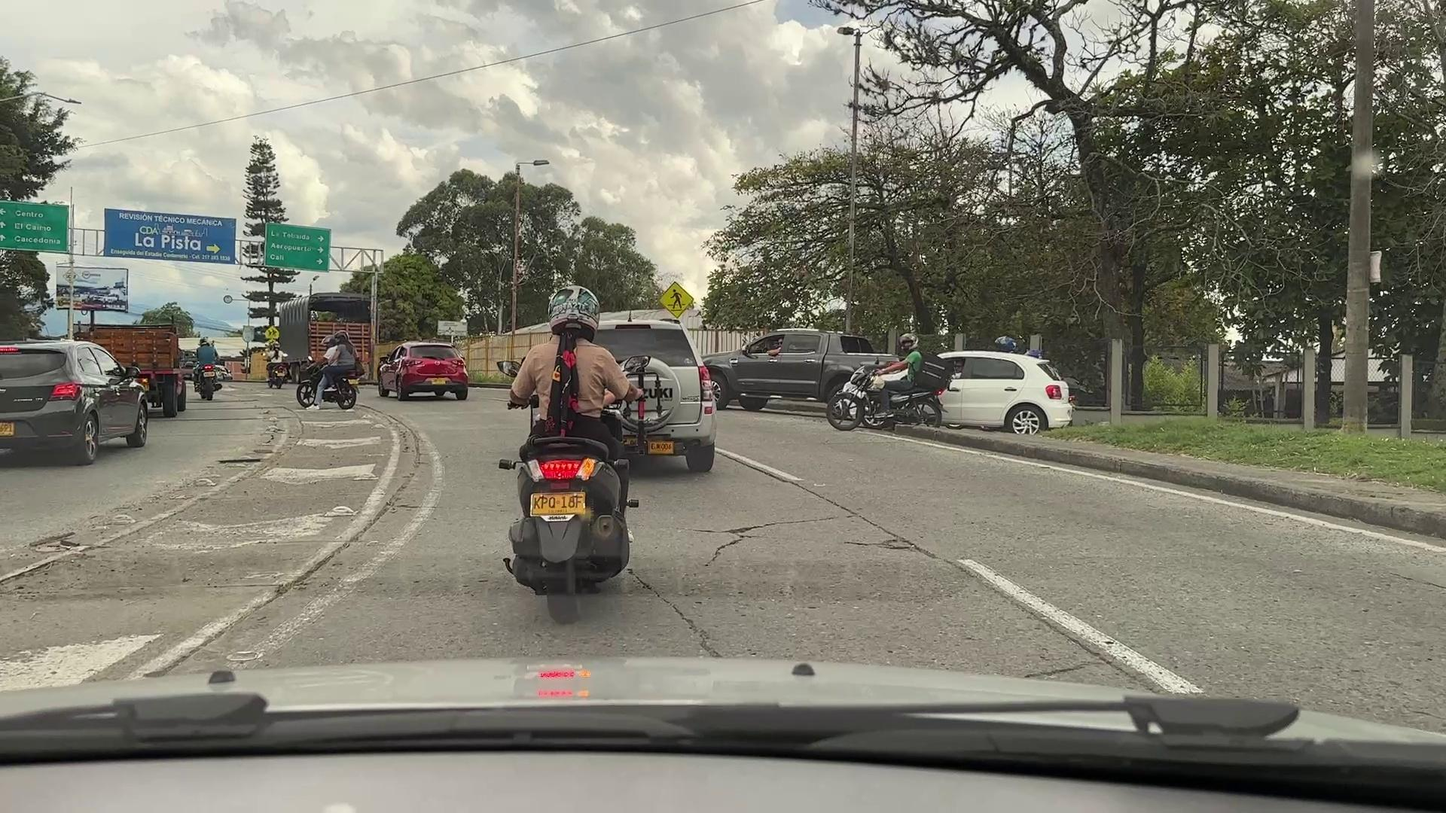bache: (874, 537, 929, 556)
grieta: (705, 527, 762, 564)
